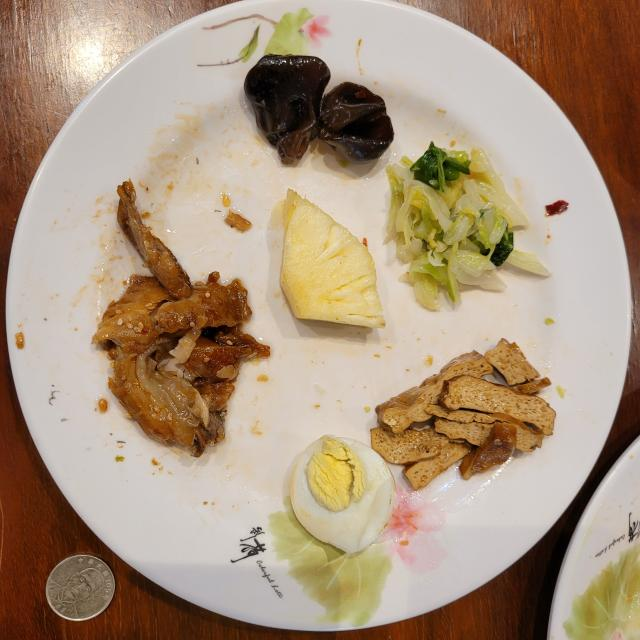Kabayaki sea bream fillet: (92, 181, 270, 456)
cabbage: (386, 142, 548, 309)
coin: (46, 554, 115, 621)
pineapple: (280, 189, 385, 328)
